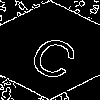C: (25, 25, 88, 83)
